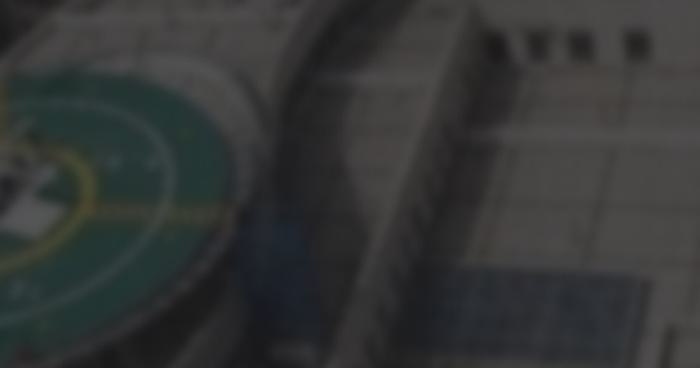Apron: (1, 137, 102, 268)
